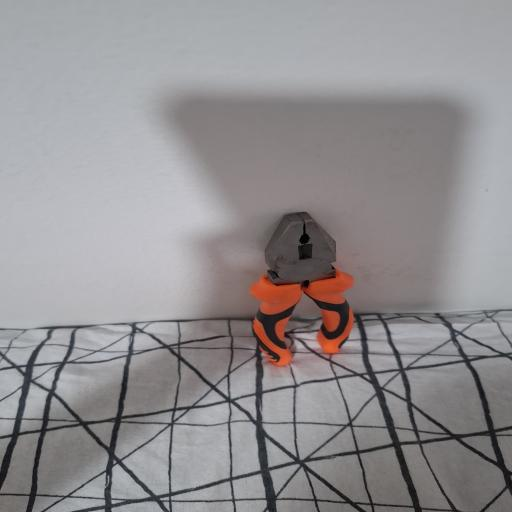alicate: (250, 210, 355, 370)
